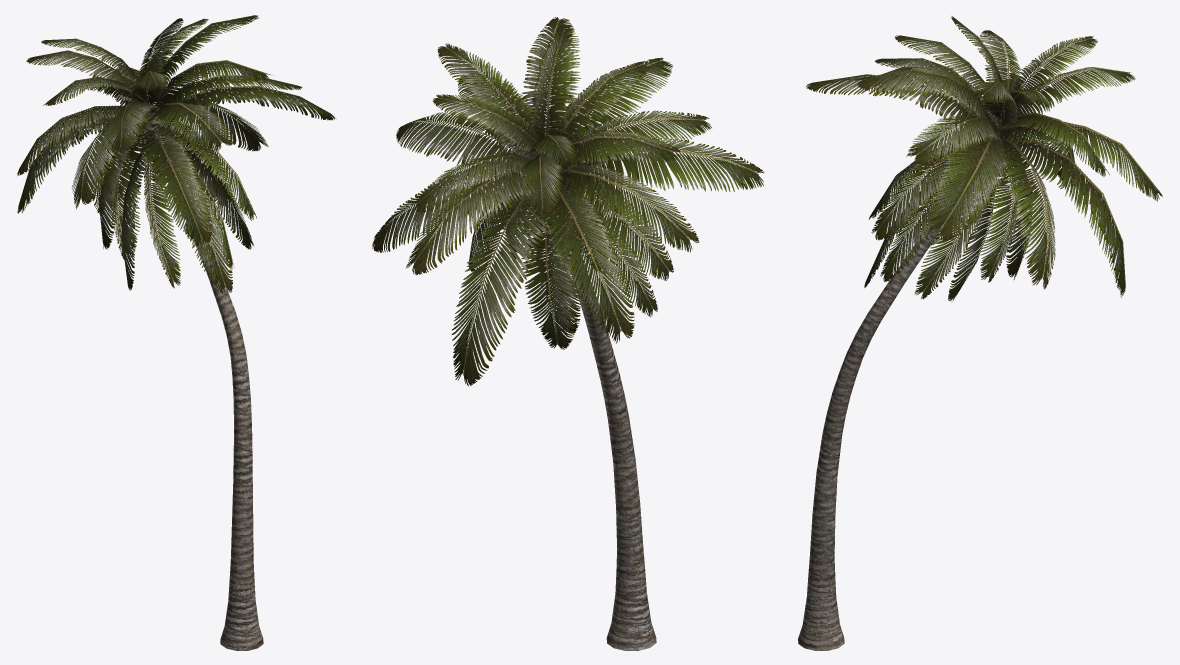
File: Palmu1.fbx
The picture shows the model from 3 angles, left to right: view 1: azimuth 30°, elevation 25°; view 2: azimuth 150°, elevation 25°; view 3: azimuth 270°, elevation 25°; orthographic projection. The views are drawn at different scales.
Visible parts, largest first — view 1: Palmu1; view 2: Palmu1; view 3: Palmu1.
Part boxes in pixels (x1,y1,x2,y2): Palmu1: [17, 15, 335, 650]; Palmu1: [372, 17, 763, 650]; Palmu1: [798, 16, 1162, 650].
Size of the model in its own units: 524 by 989 by 527.
